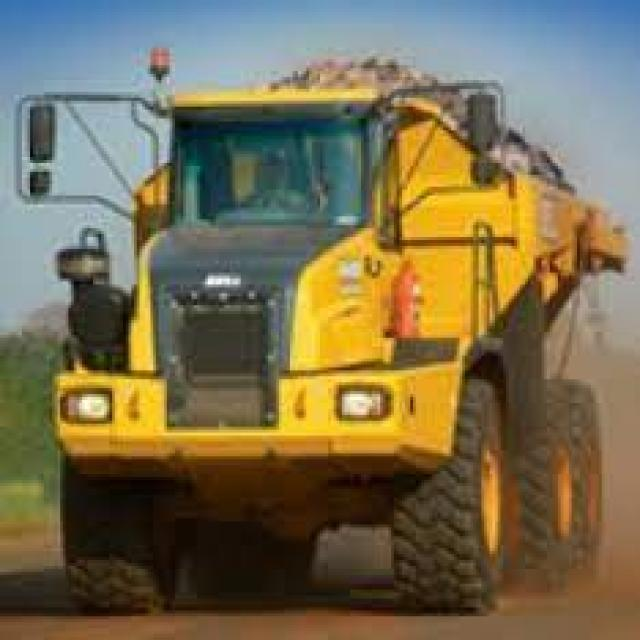dump_truck: (14, 45, 629, 620)
